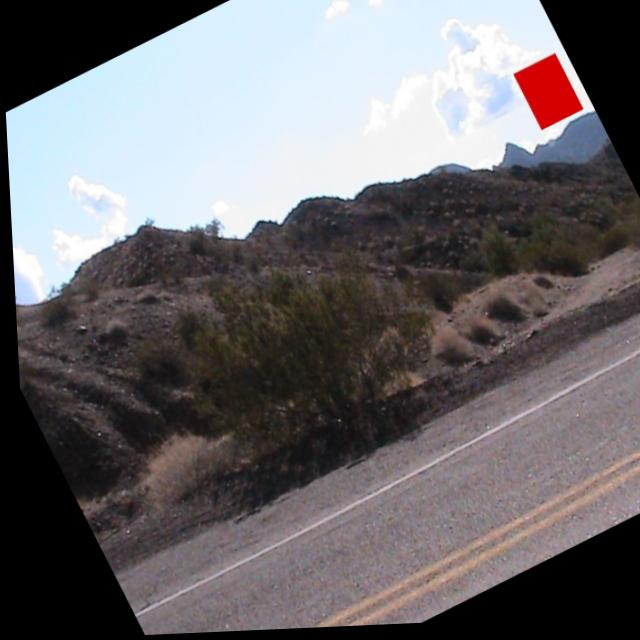RedSquare: (508, 53, 587, 140)
